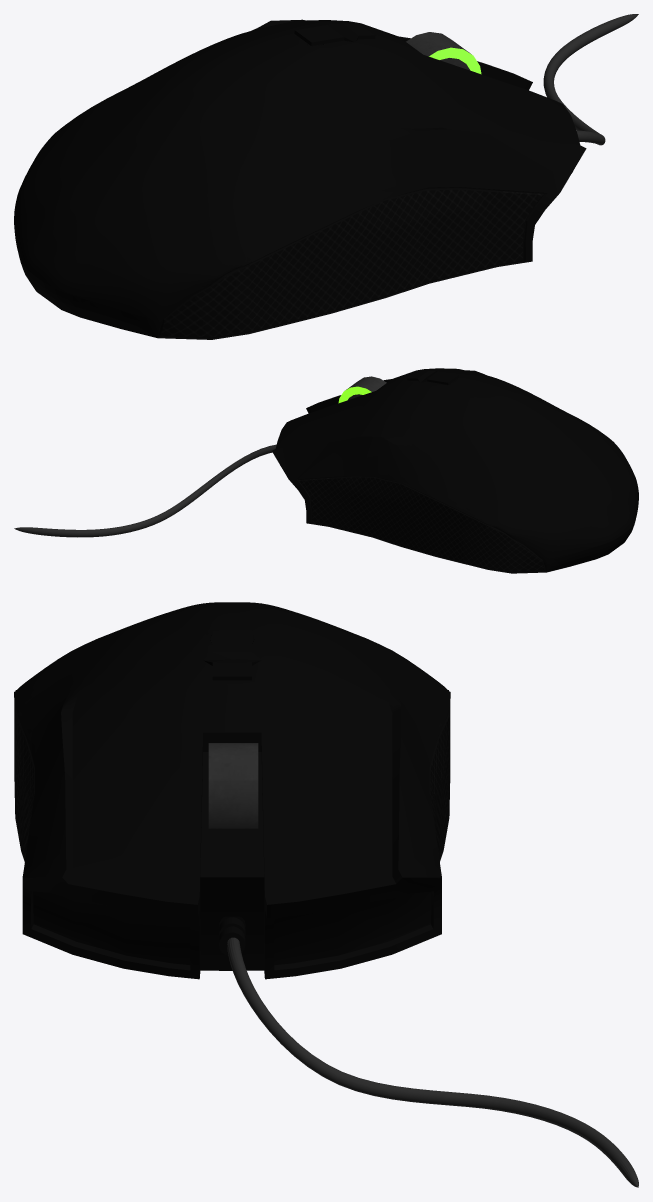
File: razer_mouse.glb
3 views of the same model, one above another, from view 1: azimuth 30°, elevation 25°; view 2: azimuth 150°, elevation 25°; view 3: azimuth 270°, elevation 25° (orthographic). The views are drawn at different scales.
Visible parts, largest first — view 1: Box001; view 2: Box001; view 3: Box001.
Part boxes in pixels (bbox=[...]): Box001: bbox=[14, 14, 638, 339]; Box001: bbox=[14, 368, 638, 573]; Box001: bbox=[14, 602, 638, 1187].
Size of the model in its own units: 148 by 42.95 by 88.8.
Materials: 7 (6 with a texture image).
